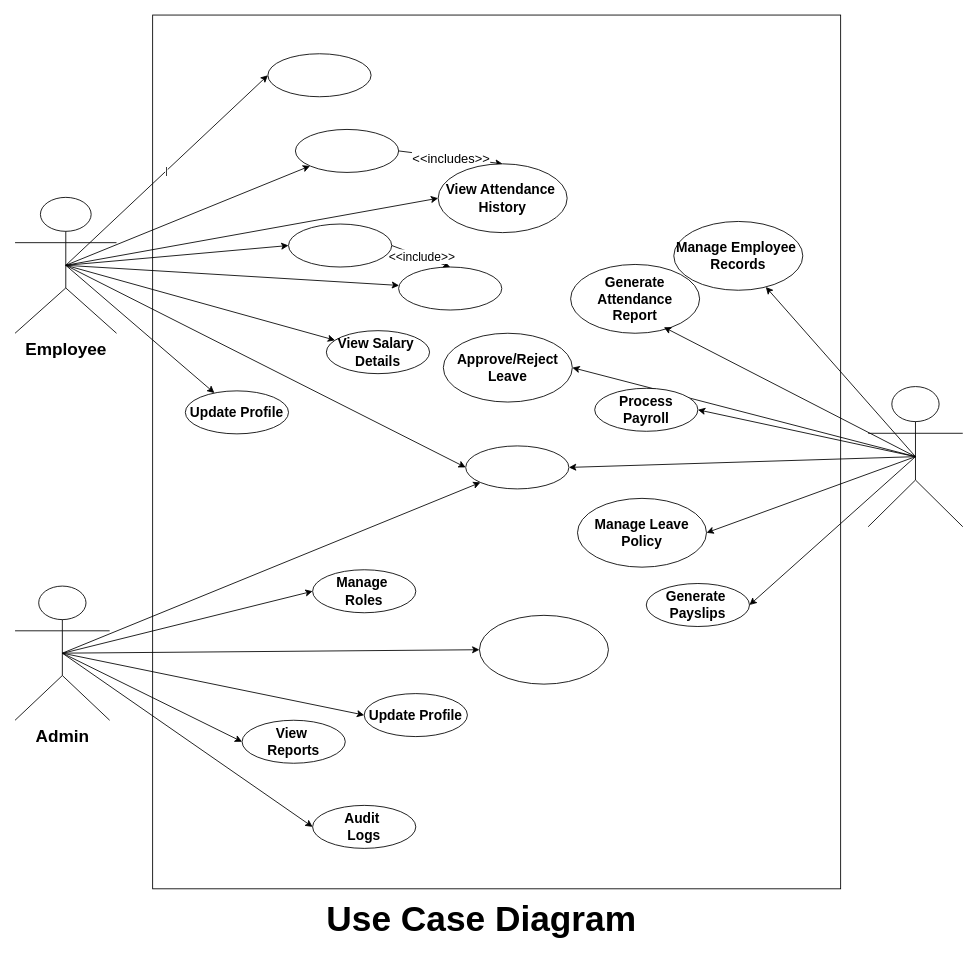
Some shapes in this 978 by 955 pixel diagram are drawn without their labels. The centre of each missing label's shape, as x and y in pixels:
Apply for Leave: the point at 340,245
HR: the point at 915,456
Login Logout: the point at 517,467
Manage System Settings: the point at 543,649
Mark Attendance: the point at 347,150
View Directory: the point at 319,75
View Leave Status: the point at 450,288
